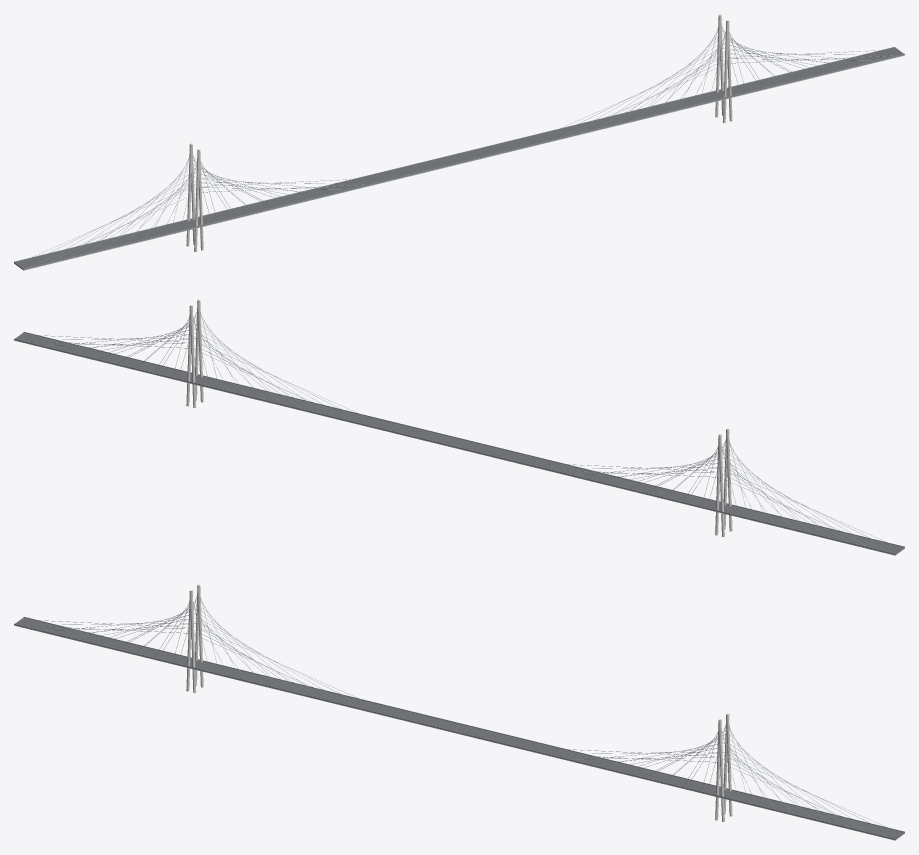
3 renders of one model, top to bottom at view 1: azimuth 30°, elevation 25°; view 2: azimuth 150°, elevation 25°; view 3: azimuth 330°, elevation 25°, orthographic.
Parts seen in each view (by area): view 1: worldgen; view 2: worldgen; view 3: worldgen.
Boxes of the visible parts, left/top/right/bottom form: worldgen: left=14, top=14, right=904, bottom=270; worldgen: left=14, top=299, right=904, bottom=555; worldgen: left=14, top=584, right=904, bottom=840.
Bounding box in the file's own units: 1550 × 170 × 29.71.
